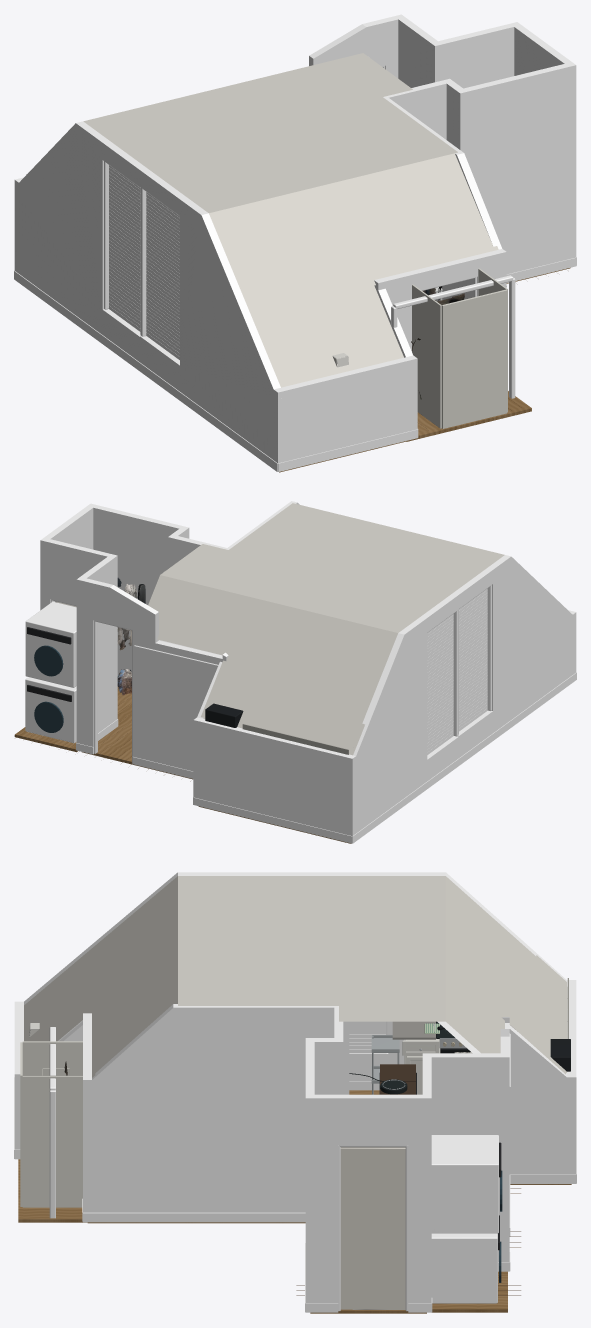
3 renders of one model, top to bottom at view 1: azimuth 30°, elevation 25°; view 2: azimuth 150°, elevation 25°; view 3: azimuth 270°, elevation 25°, orthographic. The views are drawn at different scales.
Visible parts, largest first — view 1: architecture_sloped_roof_reference_fit, architecture_region_Wall_8, architecture_region_Wall_12, architecture_region_Wall_2, source_closet_observed_backwall, architecture_region_Wall_5, source_closet_side_support_-0.687, architecture_region_Wall_10, architecture_region_Wall_1, architecture_region_Wall_11, architecture_skirt_region_Wall_8, architecture_region_Wall_13 (+11 smaller); view 2: architecture_sloped_roof_reference_fit, architecture_region_Wall_8, architecture_region_Wall_11, architecture_region_Wall_4, architecture_region_Wall_12, custom_9_body, architecture_region_Wall_13, architecture_region_Wall_5, custom_8_body, architecture_skirt_region_Wall_8, architecture_region_Wall_1, architecture_floor_hallway (+11 smaller); view 3: architecture_sloped_roof_reference_fit, architecture_region_Wall_6, architecture_region_Wall_1, source_observed_entry_slab, architecture_region_Wall_9, architecture_region_Wall_13, source_closet_side_support_0.211, custom_9_body, custom_8_body, architecture_region_Wall_8, architecture_skirt_region_Wall_6, architecture_region_Wall_10 (+14 smaller).
Boxes of the visible parts, x1,y1,x2,y2 form: architecture_sloped_roof_reference_fit: (83,53,498,387); architecture_region_Wall_8: (19,121,285,463); architecture_region_Wall_12: (460,62,574,274); architecture_region_Wall_2: (273,355,417,462); source_closet_observed_backwall: (442,289,507,428); architecture_region_Wall_5: (431,22,520,88); source_closet_side_support_-0.687: (412,284,441,428); architecture_region_Wall_10: (374,249,506,351); architecture_region_Wall_1: (510,22,576,258); architecture_region_Wall_11: (309,14,405,78); architecture_skirt_region_Wall_8: (14,270,277,471); architecture_region_Wall_13: (396,16,437,87); architecture_sloped_roof_reference_fit: (148,503,504,755); architecture_region_Wall_8: (353,555,572,833); architecture_region_Wall_11: (76,578,228,771); architecture_region_Wall_4: (193,717,355,835); architecture_region_Wall_12: (88,503,188,677); custom_9_body: (25,601,76,687); architecture_region_Wall_13: (77,554,117,732); architecture_region_Wall_5: (46,538,114,605); custom_8_body: (25,677,76,743); architecture_skirt_region_Wall_8: (352,672,576,843); architecture_region_Wall_1: (40,503,95,610); architecture_floor_hallway: (82,686,136,765); architecture_sloped_roof_reference_fit: (24,876,566,1077); architecture_region_Wall_6: (92,1004,349,1212); architecture_region_Wall_1: (305,1094,431,1303); source_observed_entry_slab: (340,1148,405,1309); architecture_region_Wall_9: (509,1025,576,1174); architecture_region_Wall_13: (423,1053,509,1262); source_closet_side_support_0.211: (22,1075,82,1207); custom_9_body: (431,1135,498,1233); custom_8_body: (431,1233,497,1303); architecture_region_Wall_8: (24,872,566,1080); architecture_skirt_region_Wall_6: (83,1212,305,1222); architecture_region_Wall_10: (83,1013,91,1212).
Size of the model in its own units: 5.92 by 2.64 by 6.21.
97 materials, 19 textured.
